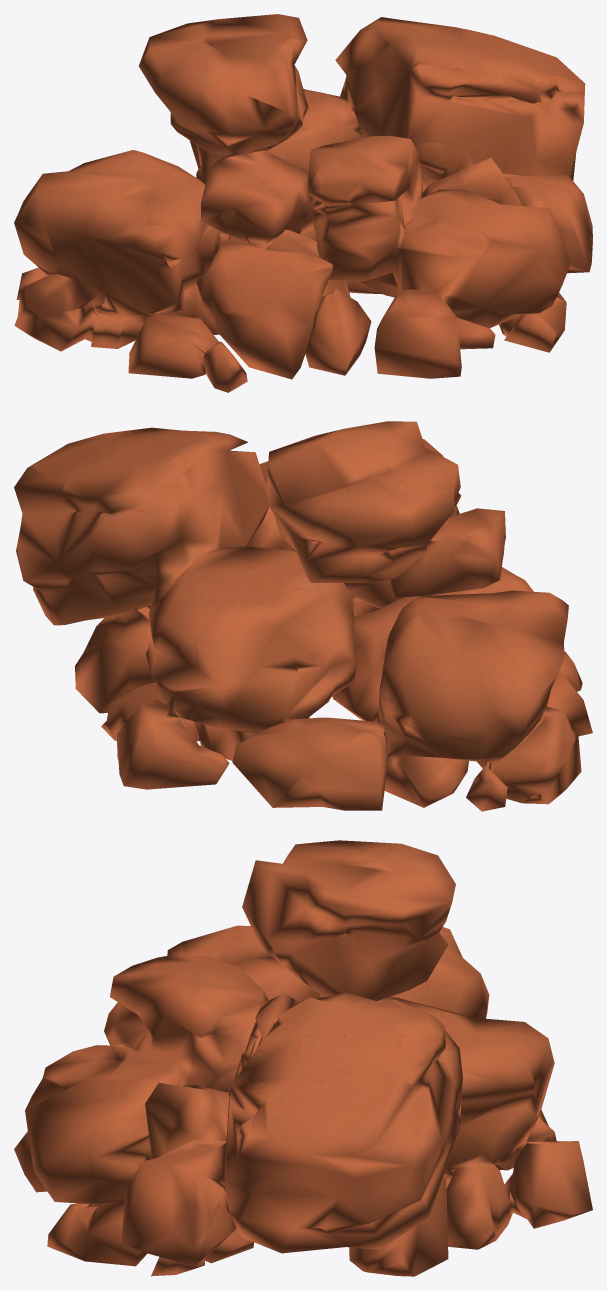
The model's file is canyonrocks.glb.
3 renders of one model, top to bottom at view 1: azimuth 30°, elevation 25°; view 2: azimuth 150°, elevation 25°; view 3: azimuth 270°, elevation 25°, orthographic. The views are drawn at different scales.
Bounding box in the file's own units: 1.88 × 0.9053 × 1.65.
1 material, 1 textured.
